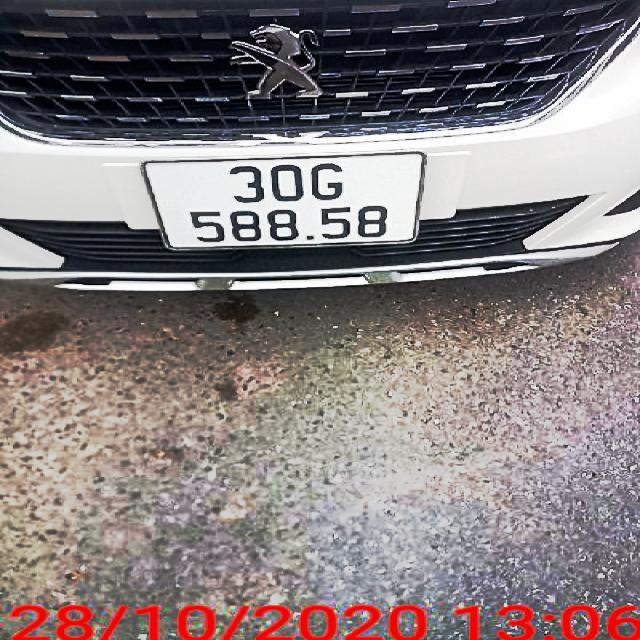license_plate: (145, 153, 423, 252)
